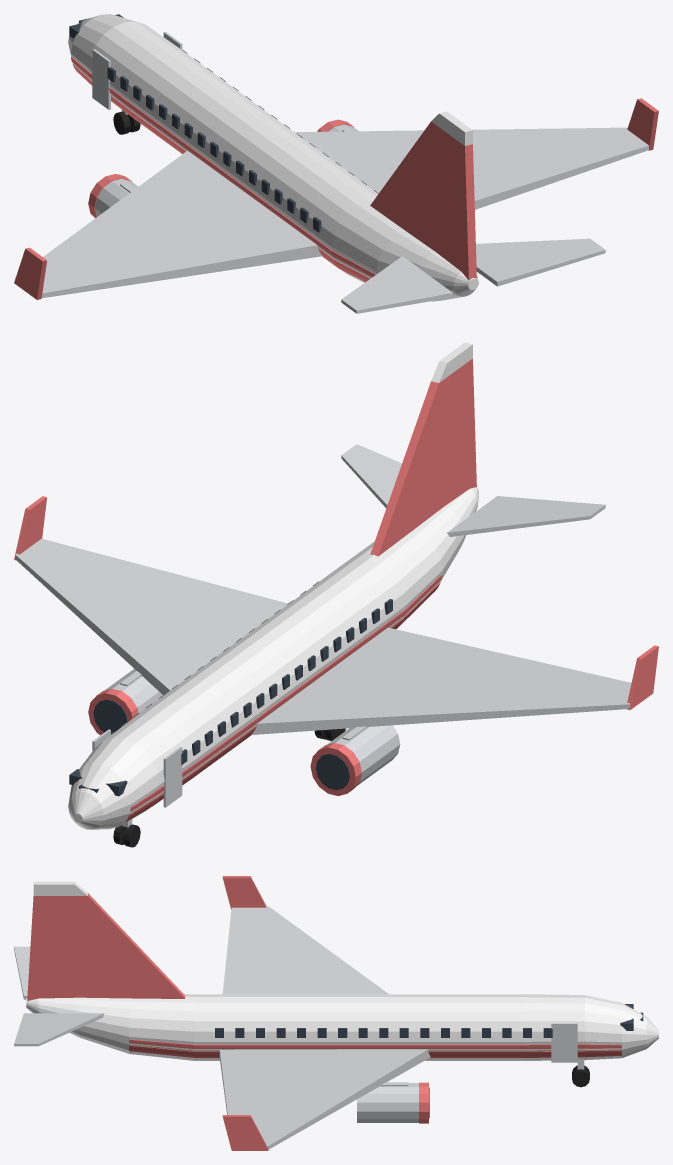
File: pesawat_penumpang.fbx
3 views of the same model, one above another, from view 1: azimuth 30°, elevation 25°; view 2: azimuth 150°, elevation 25°; view 3: azimuth 270°, elevation 25° (orthographic). The views are drawn at different scales.
Parts seen in each view (by area): view 1: PlGray, PlWhite, PlLivery, PlDark, PlTire; view 2: PlGray, PlWhite, PlLivery, PlDark, PlTire; view 3: PlWhite, PlGray, PlLivery, PlDark.
Boxes of the visible parts, x1=… form: PlGray: x1=15, y1=31, x2=648, y2=313; PlWhite: x1=68, y1=14, x2=478, y2=301; PlLivery: x1=14, y1=57, x2=658, y2=299; PlDark: x1=69, y1=14, x2=378, y2=232; PlTire: x1=113, y1=111, x2=140, y2=134; PlGray: x1=15, y1=444, x2=631, y2=827; PlWhite: x1=68, y1=342, x2=478, y2=829; PlLivery: x1=14, y1=358, x2=658, y2=821; PlDark: x1=69, y1=581, x2=392, y2=796; PlTire: x1=113, y1=728, x2=345, y2=847; PlWhite: x1=26, y1=881, x2=658, y2=1060; PlGray: x1=14, y1=906, x2=584, y2=1149; PlLivery: x1=27, y1=876, x2=621, y2=1150; PlDark: x1=215, y1=1004, x2=643, y2=1118.
Bounding box in the file's own units: 69.3 × 27 × 78.5.
